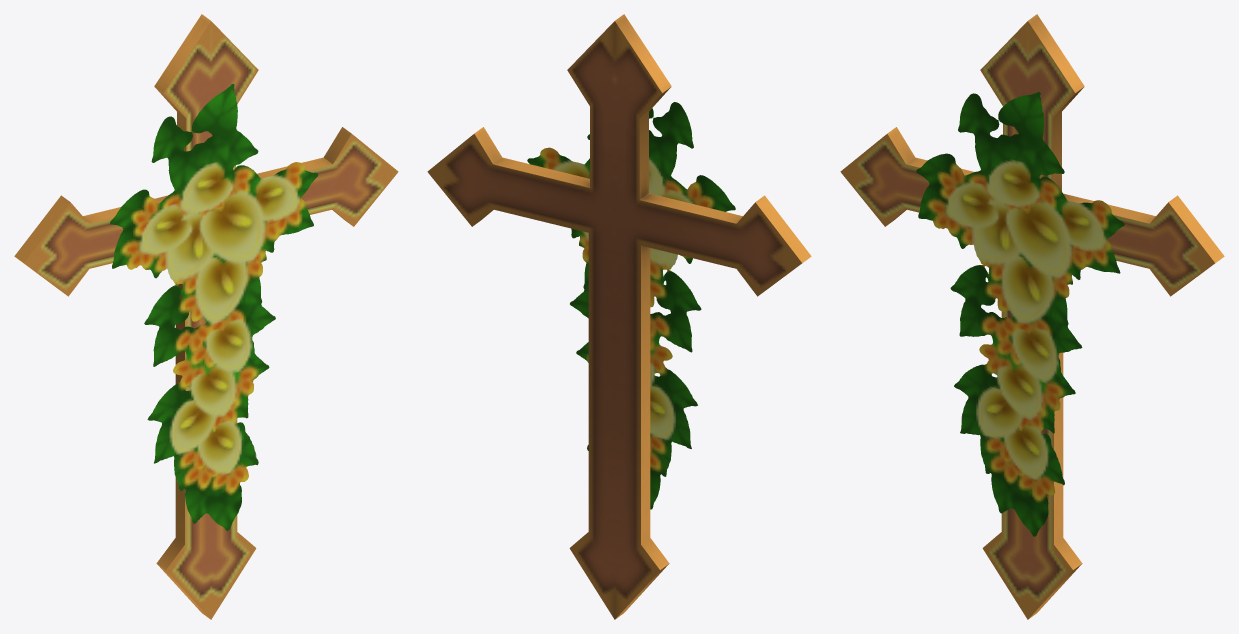
File: Cross_01.FBX
3 renders of one model, left to right at view 1: azimuth 30°, elevation 25°; view 2: azimuth 150°, elevation 25°; view 3: azimuth 330°, elevation 25°, orthographic.
Parts seen in each view (by area): view 1: Cross_01; view 2: Cross_01; view 3: Cross_01.
Part boxes in pixels (x1,y1,x2,y2): Cross_01: [14, 14, 398, 619]; Cross_01: [427, 14, 811, 619]; Cross_01: [840, 14, 1224, 619].
Bounding box in the file's own units: 0.8516 × 1.3 × 0.0572.
